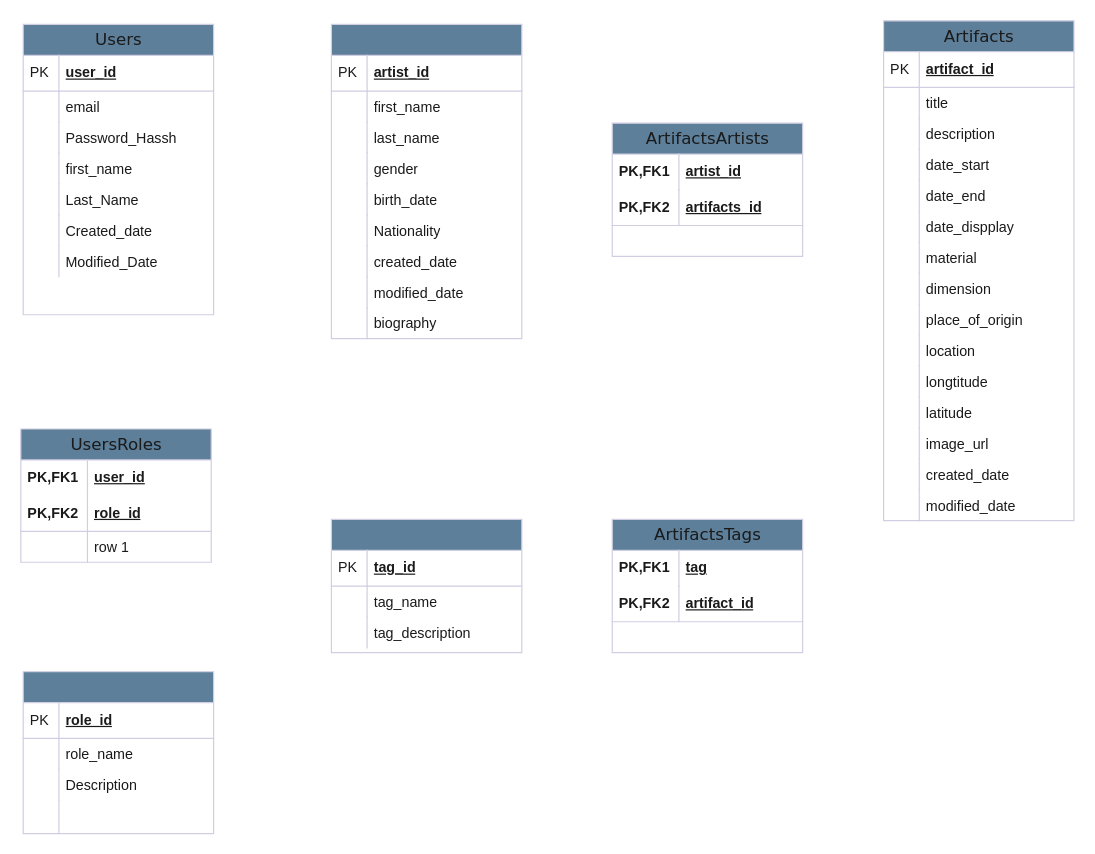
The diagram is 1095 pixels wide and 854 high, and some of its shapes have lost their labels. The shapes that lost their labels are listed below. From the top down, each one's box as (x1, y1, x2, y2) in pixels, then its label:
(330, 23, 522, 339): Artists
(330, 518, 522, 653): Tags
(22, 671, 214, 834): Roles
